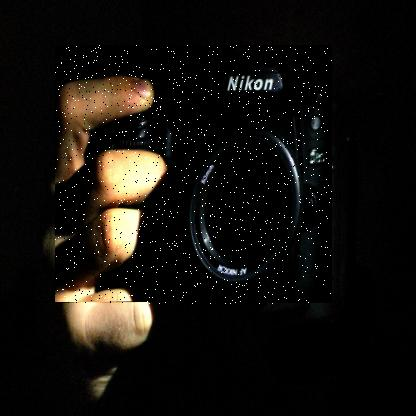Camera: (56, 47, 334, 307)
